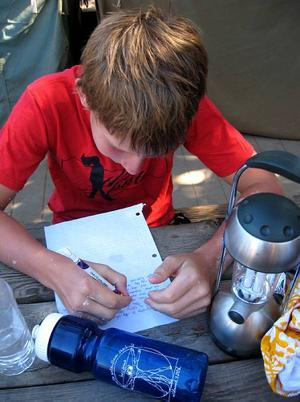person: (2, 13, 287, 325)
